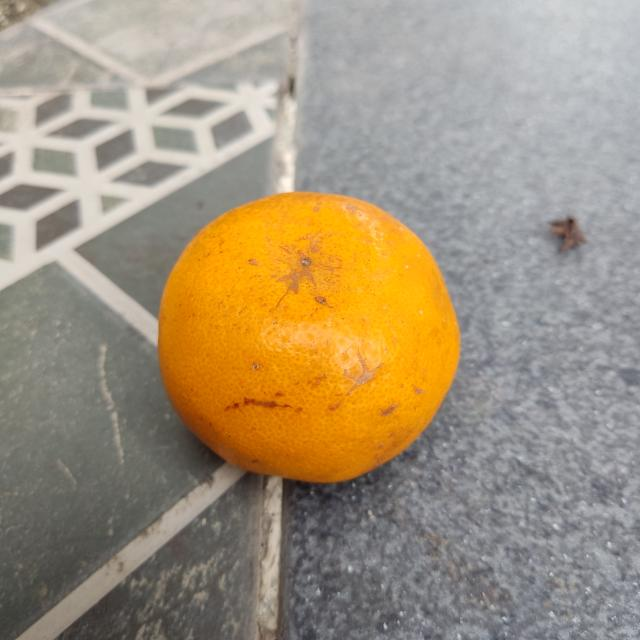orange: (156, 185, 462, 489)
